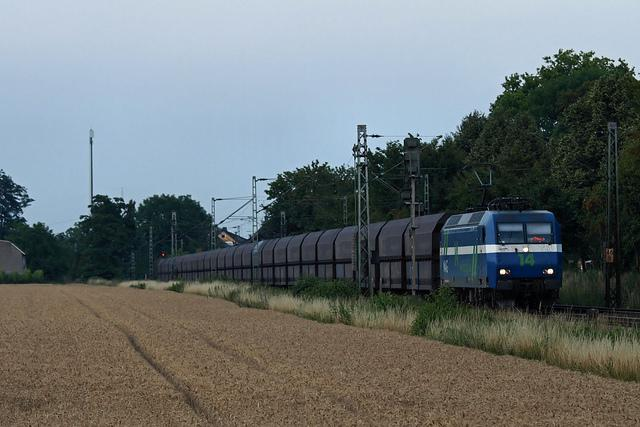Train: (152, 196, 569, 313)
